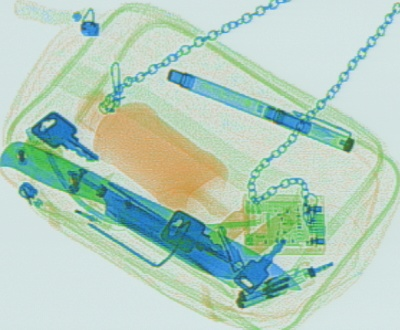knife: (1, 140, 303, 293), (24, 138, 250, 281)
